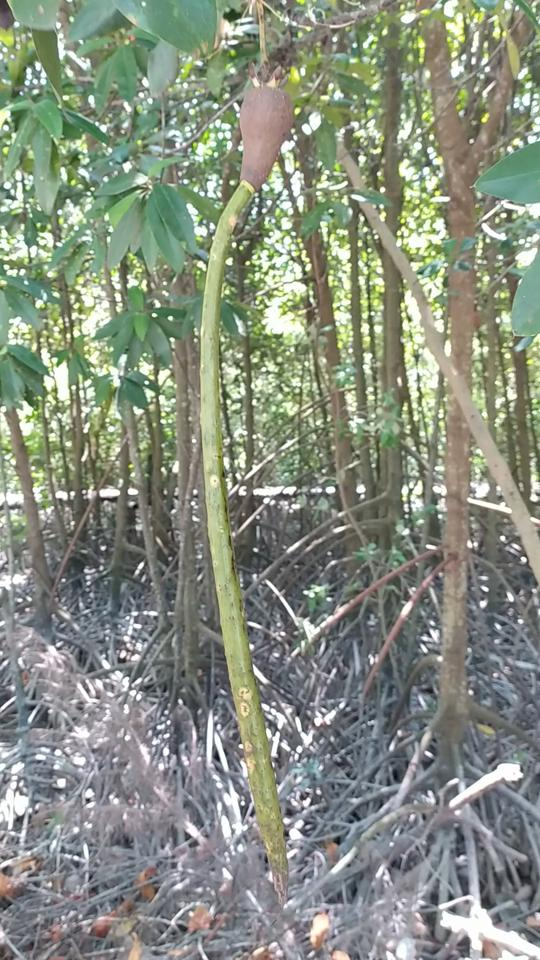setengah matang: (192, 63, 311, 907)
